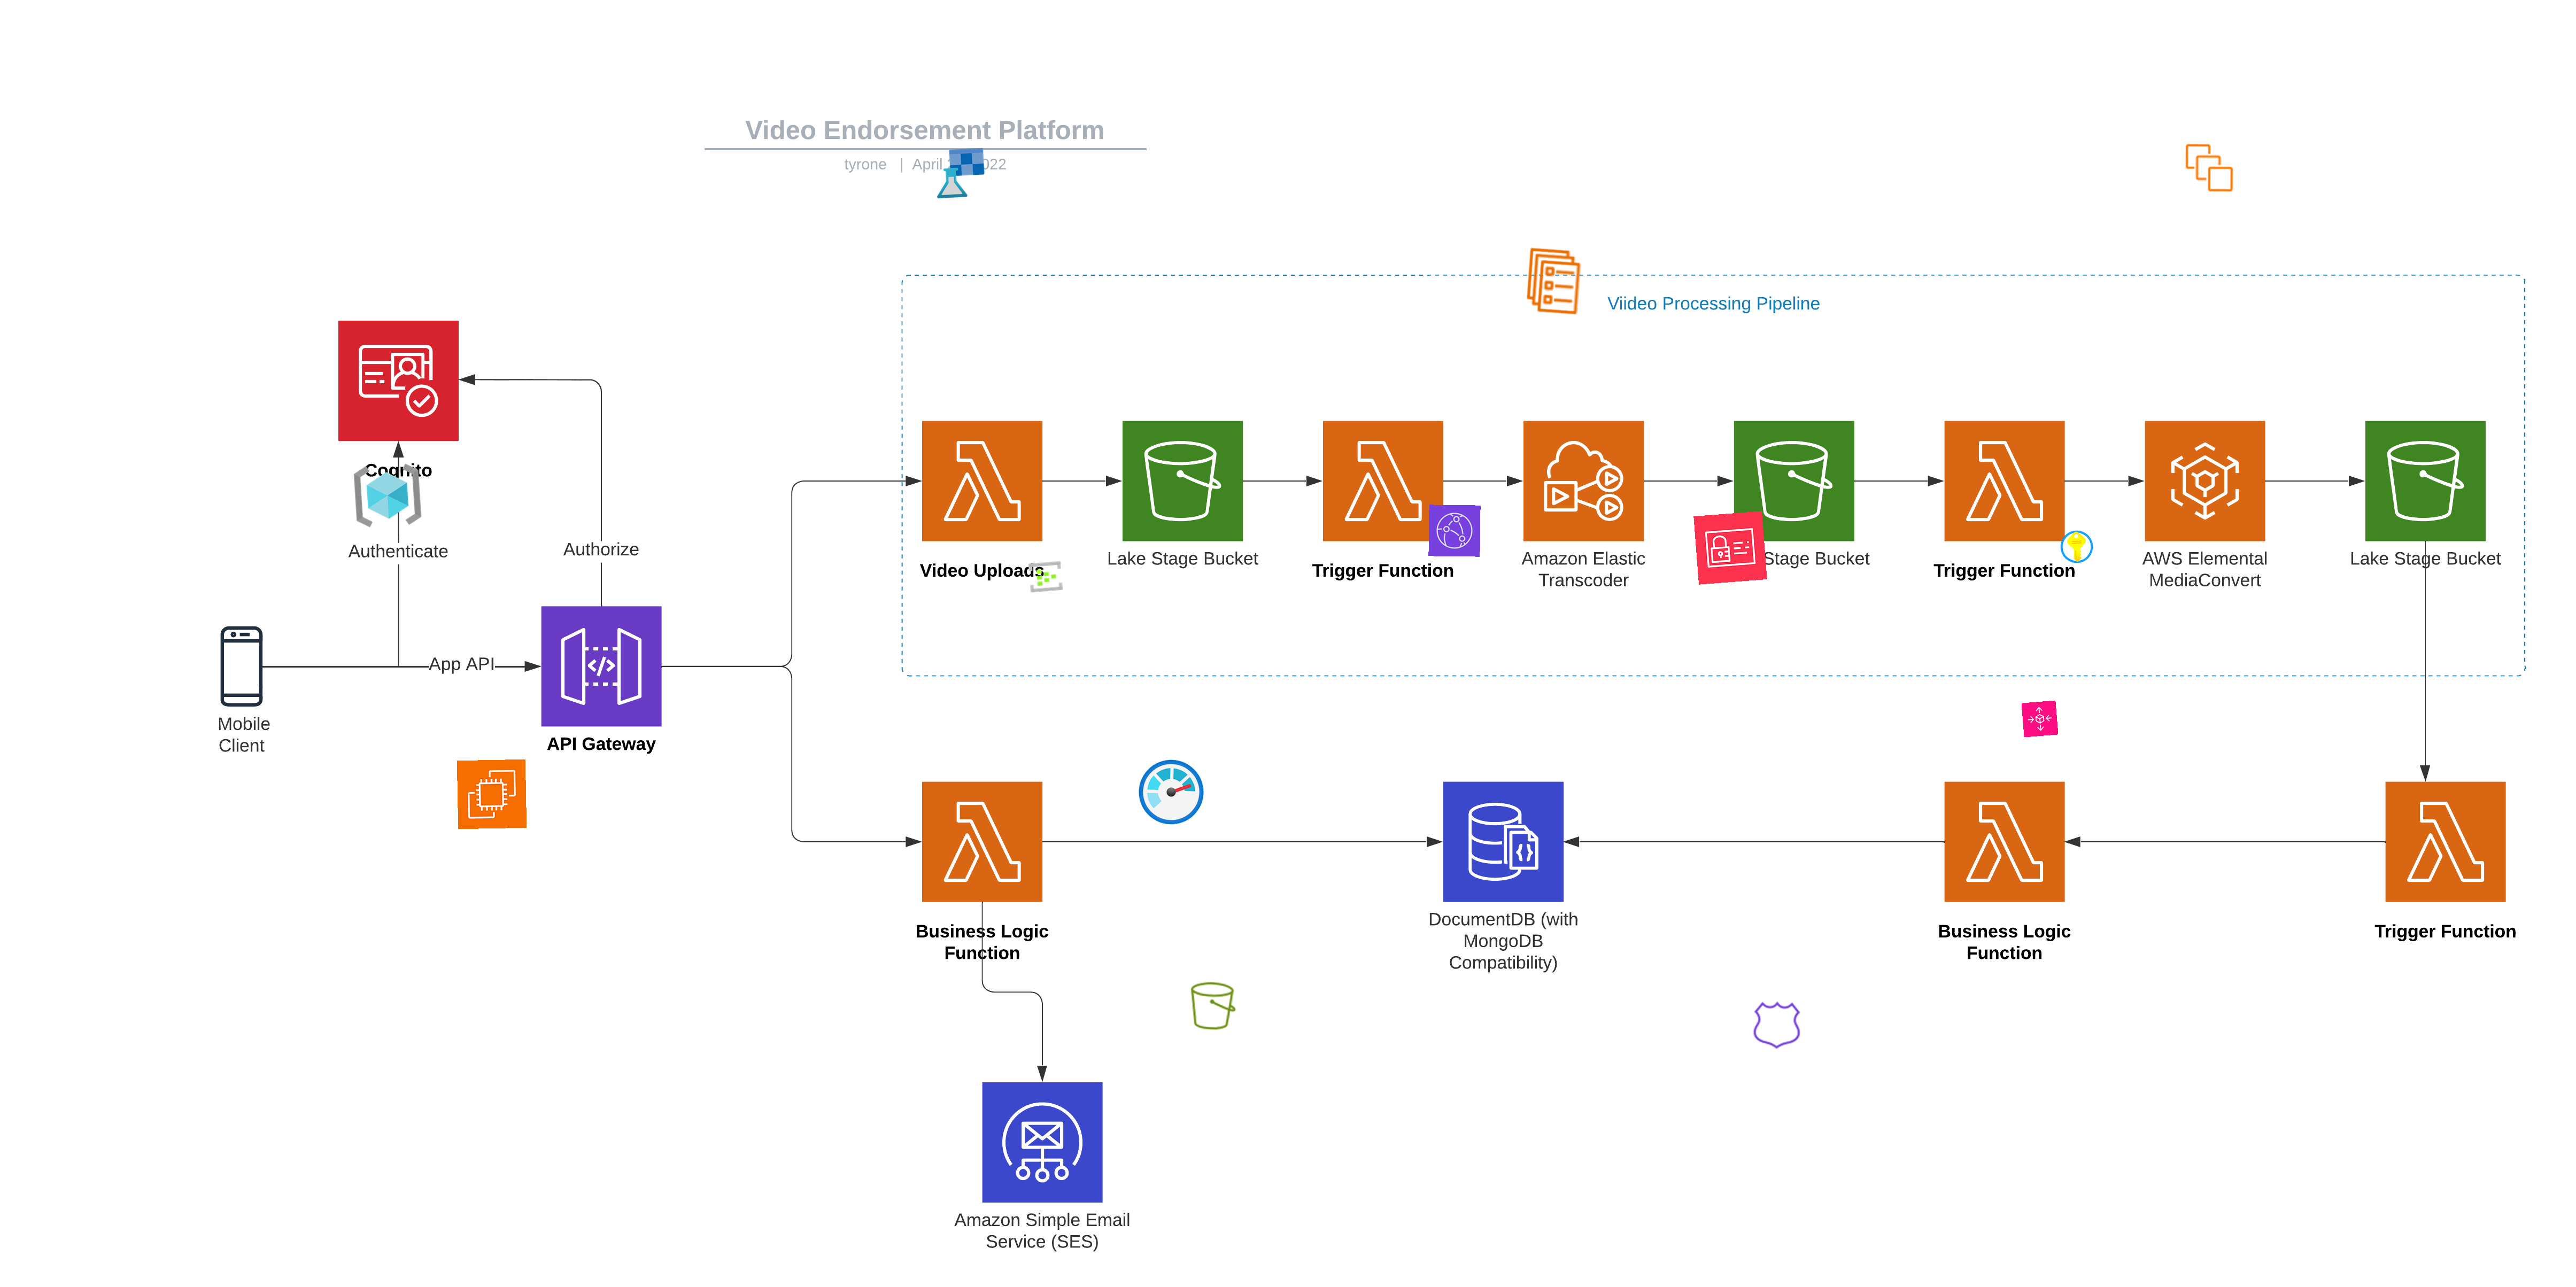aws_amazon_cloudfront: (1428, 504, 1480, 556)
aws_amazon_ec2: (457, 758, 527, 829)
aws_auto_scaling: (2021, 701, 2059, 737)
aws_ec2_instances: (2183, 141, 2236, 194)
aws_elastic_container_service_service: (1516, 245, 1590, 318)
aws_identity_and_access_management: (1694, 511, 1768, 584)
aws_route_53_hosted_zone: (1751, 1000, 1804, 1051)
aws_simple_storage_service_s3_standard: (1186, 978, 1240, 1033)
azure_event_hubs: (1027, 558, 1065, 596)
azure_key_vaults: (2059, 529, 2095, 565)
azure_machine_learning_studio_workspaces: (933, 146, 987, 200)
azure_monitor: (1135, 757, 1207, 827)
azure_resource_groups: (352, 460, 424, 532)
